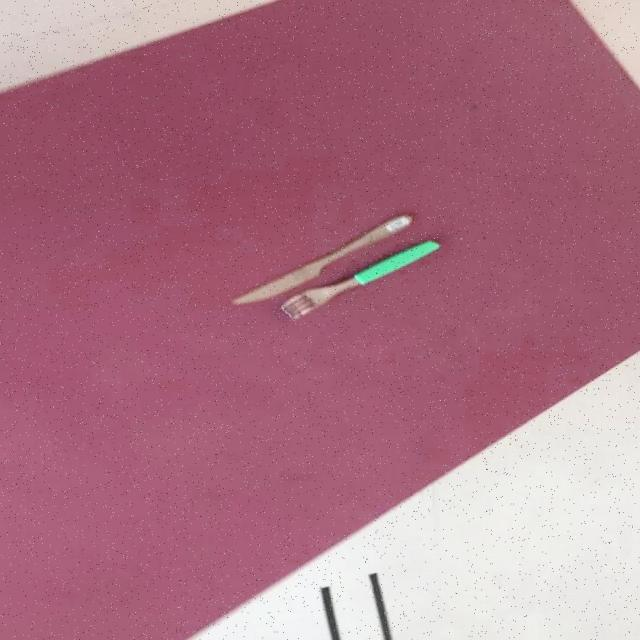Fork: (278, 238, 440, 321)
Knife: (227, 212, 413, 305), (278, 238, 440, 321)
